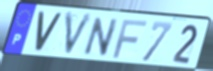2: (171, 23, 199, 66)
7: (143, 20, 175, 63)
F: (111, 19, 149, 60)
N: (81, 16, 121, 58)
V: (62, 11, 96, 60), (34, 10, 64, 55)
